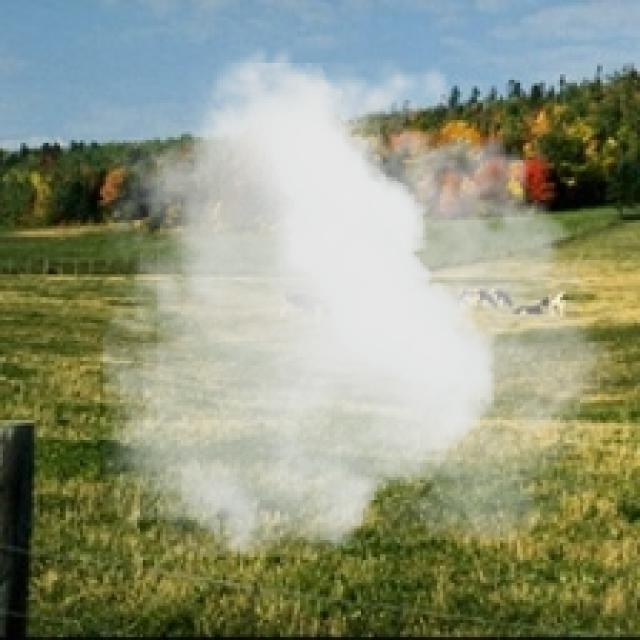Smoke: (102, 31, 634, 558)
